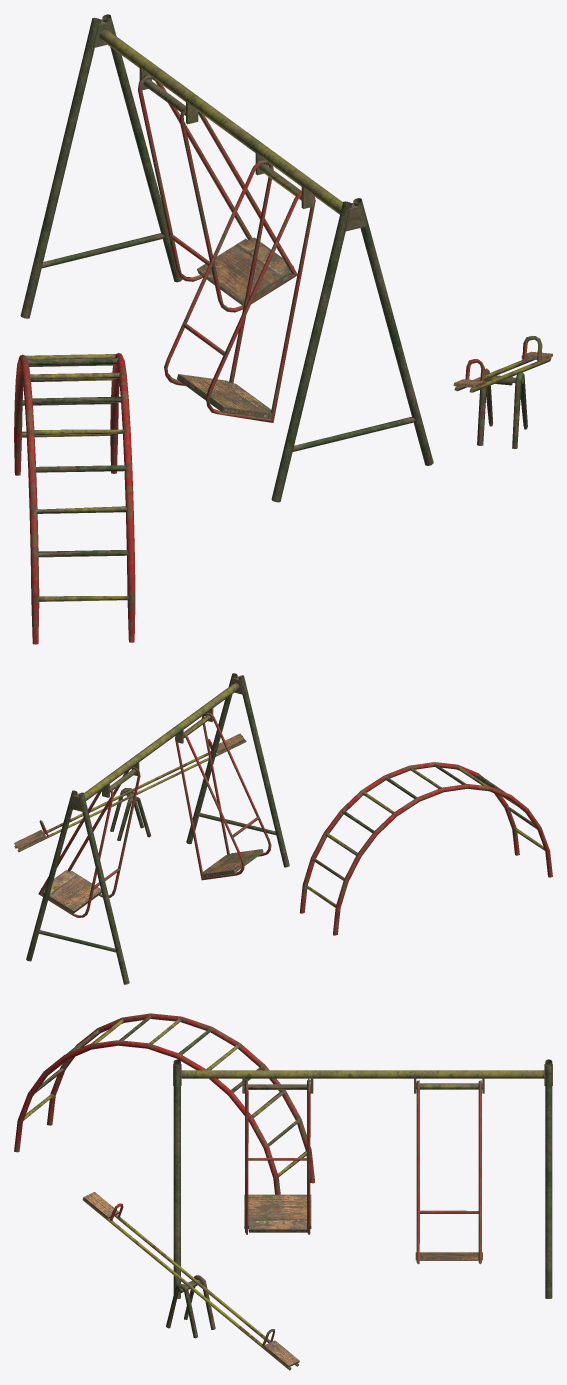
Rendered from swings.lod0.glb.
3 renders of one model, top to bottom at view 1: azimuth 30°, elevation 25°; view 2: azimuth 150°, elevation 25°; view 3: azimuth 270°, elevation 25°, orthographic. The views are drawn at different scales.
Visible parts, largest first — view 1: Circle002__0; view 2: Circle002__0; view 3: Circle002__0.
Boxes of the visible parts, box(x1,y1,x2,y2) form: Circle002__0: box(14, 14, 552, 644); Circle002__0: box(14, 673, 552, 984); Circle002__0: box(14, 1013, 552, 1370).
Size of the model in its own units: 6.31 by 2.5 by 5.84.
1 material, 1 textured.
